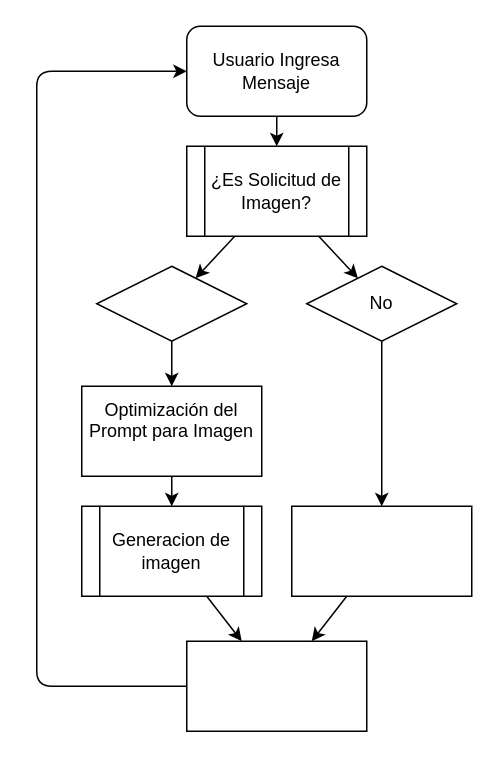
This 498x758 diagram has some shape labels left out. The centre of each missing label's shape, as x and y in pixels:
"Mostrar Resultado" belongs at pixel 276 685.
"Respuesta en forma de texto" belongs at pixel 381 550.
"Si" belongs at pixel 171 303.
